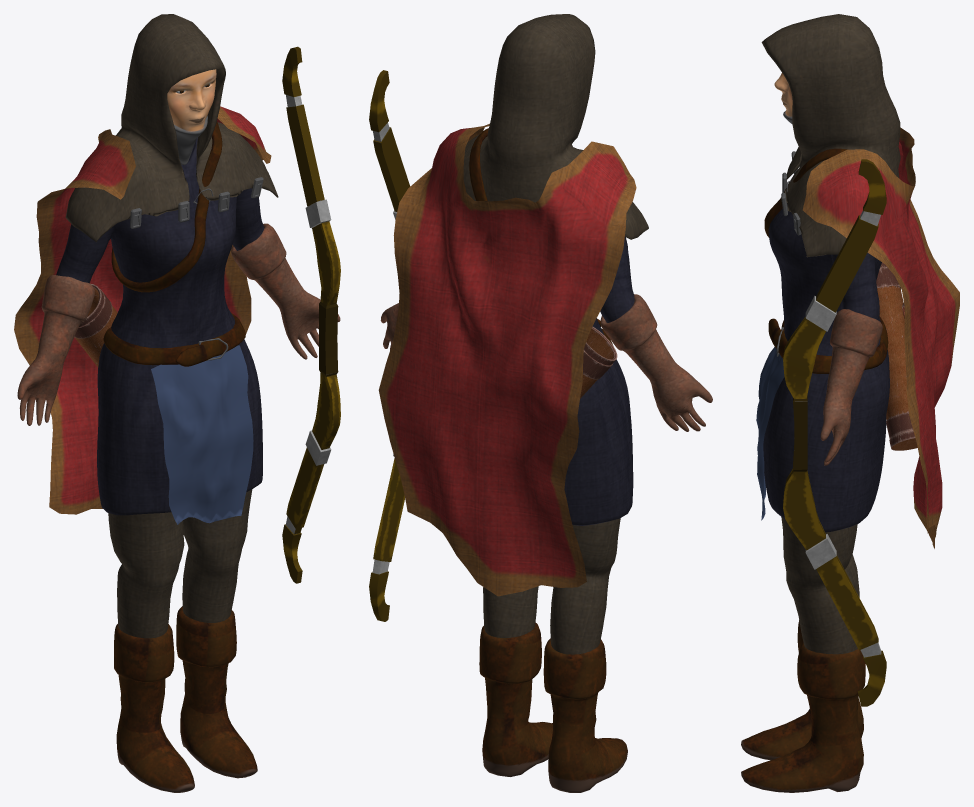
3 renders of one model, left to right at view 1: azimuth 30°, elevation 25°; view 2: azimuth 150°, elevation 25°; view 3: azimuth 270°, elevation 25°, orthographic. The views are drawn at different scales.
Parts seen in each view (by area): view 1: Tunic_low3, Hood_low, Cape_low, Boot_low, Apron_low, Trousers_low, bow:Bow_Bow, Gloves_low, BeltLower, BeltHigher, Head_low, Quiver_low1 (+1 smaller); view 2: Cape_low, Hood_low, Boot_low, Tunic_low3, Trousers_low, Gloves_low, bow:Bow_Bow, Quiver_low1, BeltHigher; view 3: Cape_low, Tunic_low3, Hood_low, bow:Bow_Bow, Boot_low, Trousers_low, Gloves_low, Quiver_low1, Apron_low, BeltLower, BeltHigher, Head_low.
Part boxes in pixels (box(x1,y1,x2,y2)): Tunic_low3: box(56, 137, 264, 515); Hood_low: box(65, 14, 278, 242); Cape_low: box(14, 106, 271, 514); Boot_low: box(114, 606, 257, 792); Apron_low: box(151, 345, 253, 524); Trousers_low: box(108, 489, 252, 638); bow:Bow_Bow: box(282, 46, 340, 583); Gloves_low: box(17, 223, 340, 425); BeltLower: box(103, 313, 245, 366); BeltHigher: box(111, 121, 222, 292); Head_low: box(167, 69, 216, 130); Quiver_low1: box(74, 283, 117, 367); Cape_low: box(378, 123, 636, 596); Hood_low: box(463, 14, 648, 239); Boot_low: box(479, 622, 627, 792); Tunic_low3: box(564, 237, 634, 525); Trousers_low: box(483, 518, 620, 654); Gloves_low: box(380, 294, 712, 431); bow:Bow_Bow: box(369, 70, 410, 621); Quiver_low1: box(580, 326, 617, 398); BeltHigher: box(469, 128, 488, 201); Cape_low: box(802, 127, 959, 548); Tunic_low3: box(763, 203, 889, 532); Hood_low: box(761, 14, 900, 257); bow:Bow_Bow: box(783, 159, 886, 706); Boot_low: box(741, 620, 865, 792); Trousers_low: box(781, 517, 859, 654); Gloves_low: box(820, 309, 882, 465); Quiver_low1: box(876, 262, 917, 450); Apron_low: box(756, 347, 784, 520); BeltLower: box(768, 316, 888, 373); BeltHigher: box(764, 148, 847, 237); Head_low: box(774, 73, 792, 116).
Size of the model in its own units: 1.71 by 3.74 by 0.9859.
Materials: 3 (3 with a texture image).
